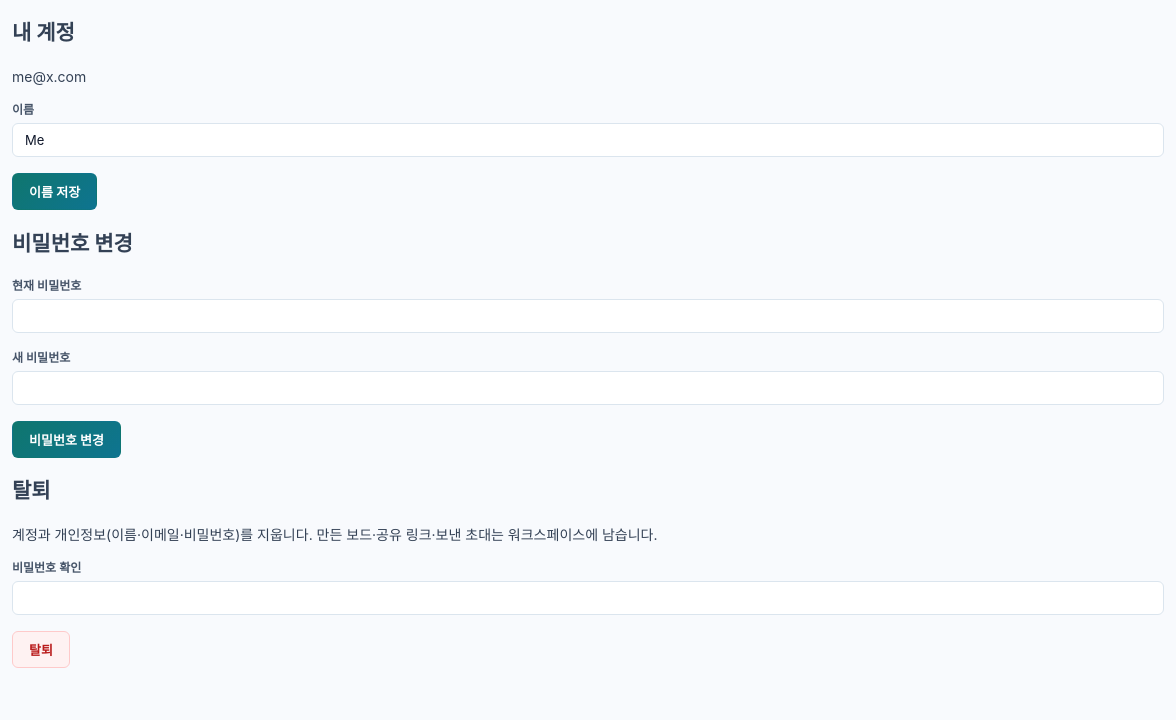
Scenario: AccountPage › shows the account and renames it
Expected: the text "me@x.com" is shown, [12, 68, 86, 85]
Replace the text in the field labelled "이름" with " New Name " at (588, 140), box [12, 123, 1164, 157]
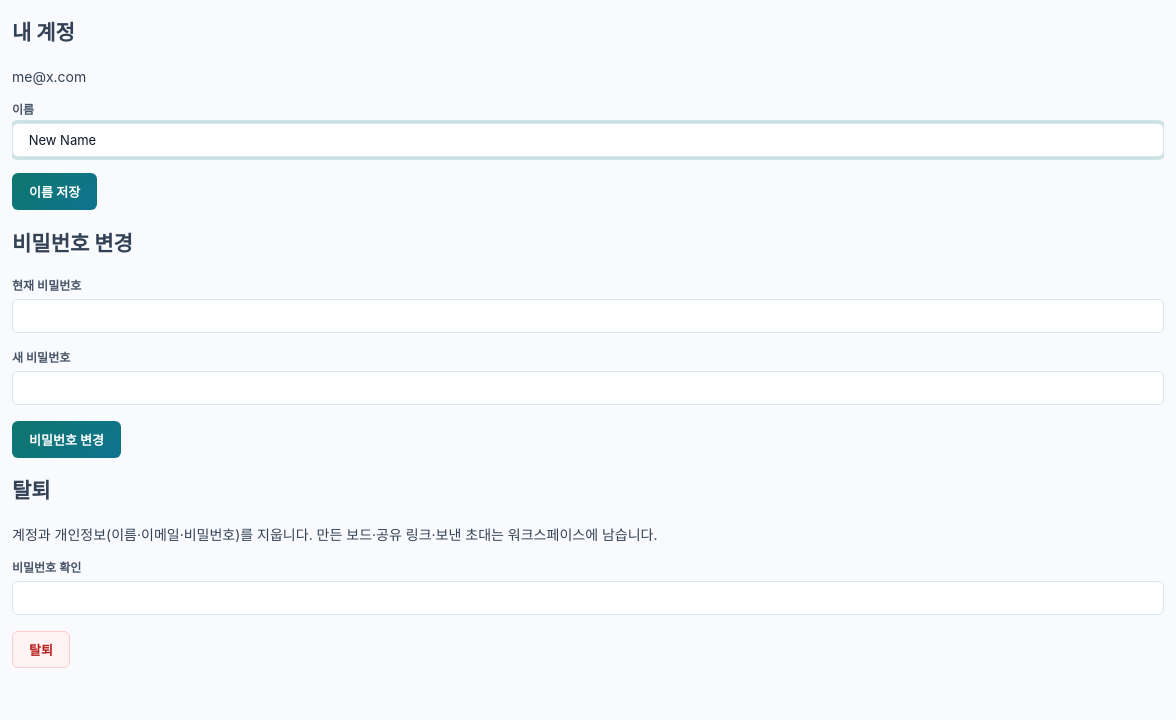
Click the button "이름 저장" at (55, 192), box [12, 173, 97, 210]
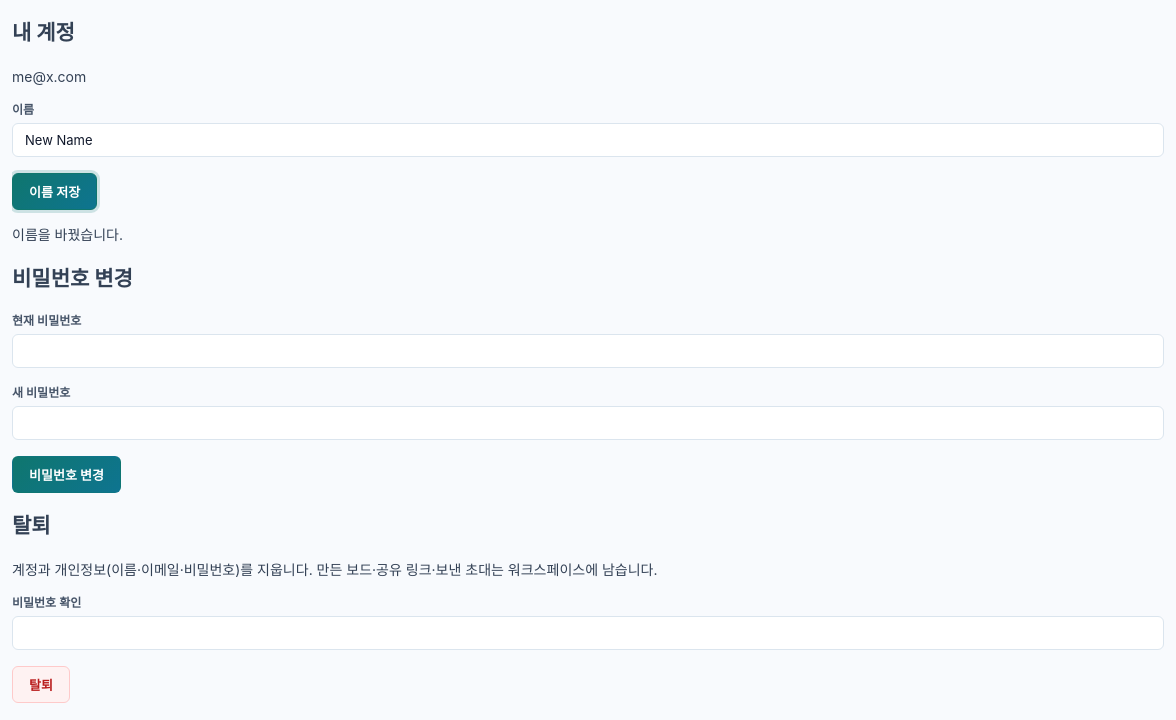
Expected: the text "이름을 바꿨습니다." is shown, [12, 226, 123, 243]
